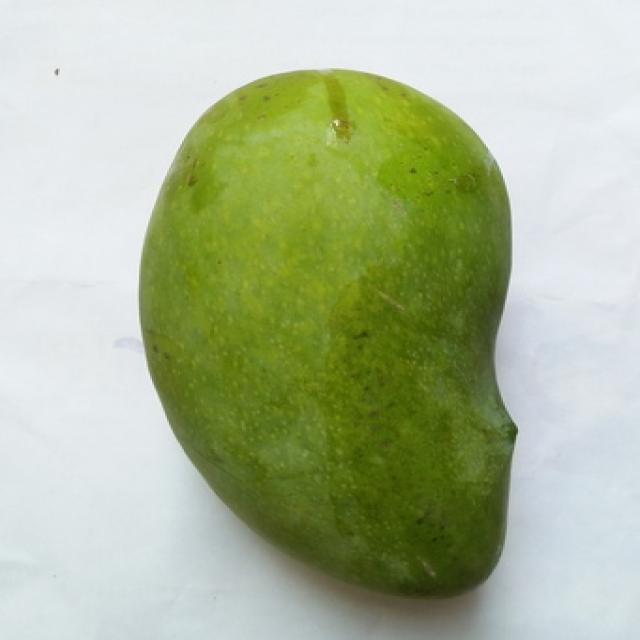Mango: (139, 70, 516, 595)
